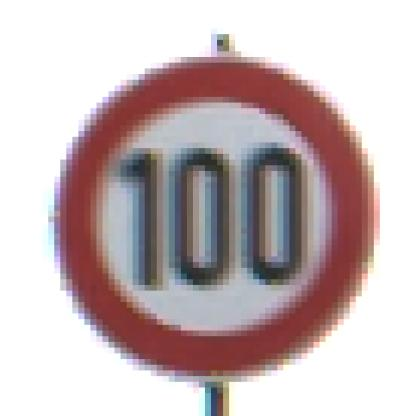Speed Limit 100: (50, 53, 379, 382)
